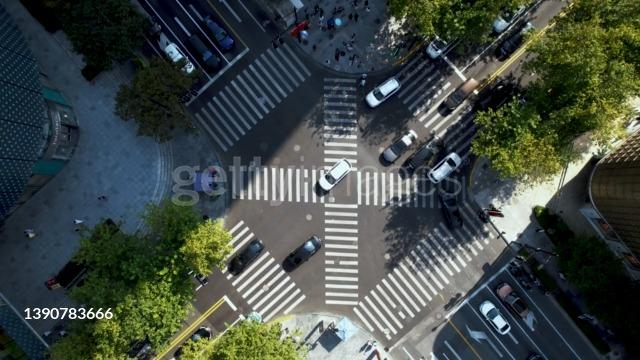car: (120, 0, 167, 44), (199, 16, 245, 56), (485, 22, 535, 56), (494, 282, 534, 324), (182, 34, 226, 72), (312, 158, 360, 192), (475, 298, 517, 336), (376, 130, 422, 164), (362, 77, 410, 109), (226, 237, 266, 275), (161, 42, 201, 80), (440, 78, 482, 114), (170, 326, 213, 359), (427, 152, 469, 185), (278, 236, 324, 266), (426, 32, 472, 60), (436, 192, 466, 230), (488, 4, 526, 32), (524, 348, 544, 359)
